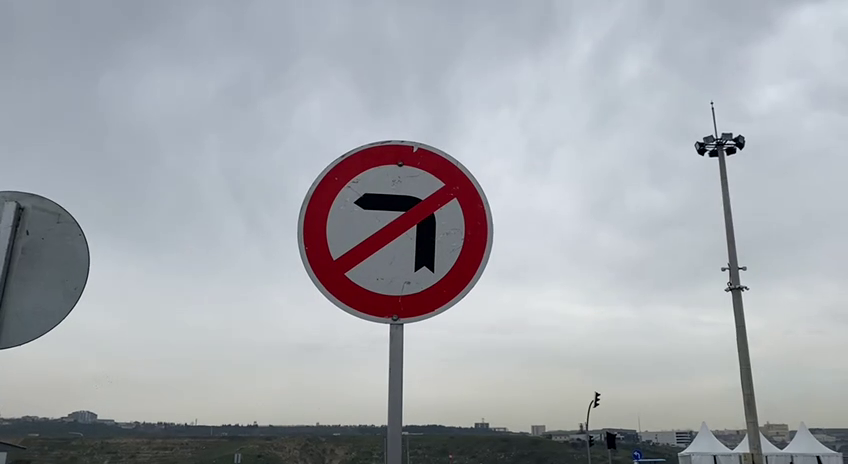noTurnLeft: (296, 137, 496, 326)
